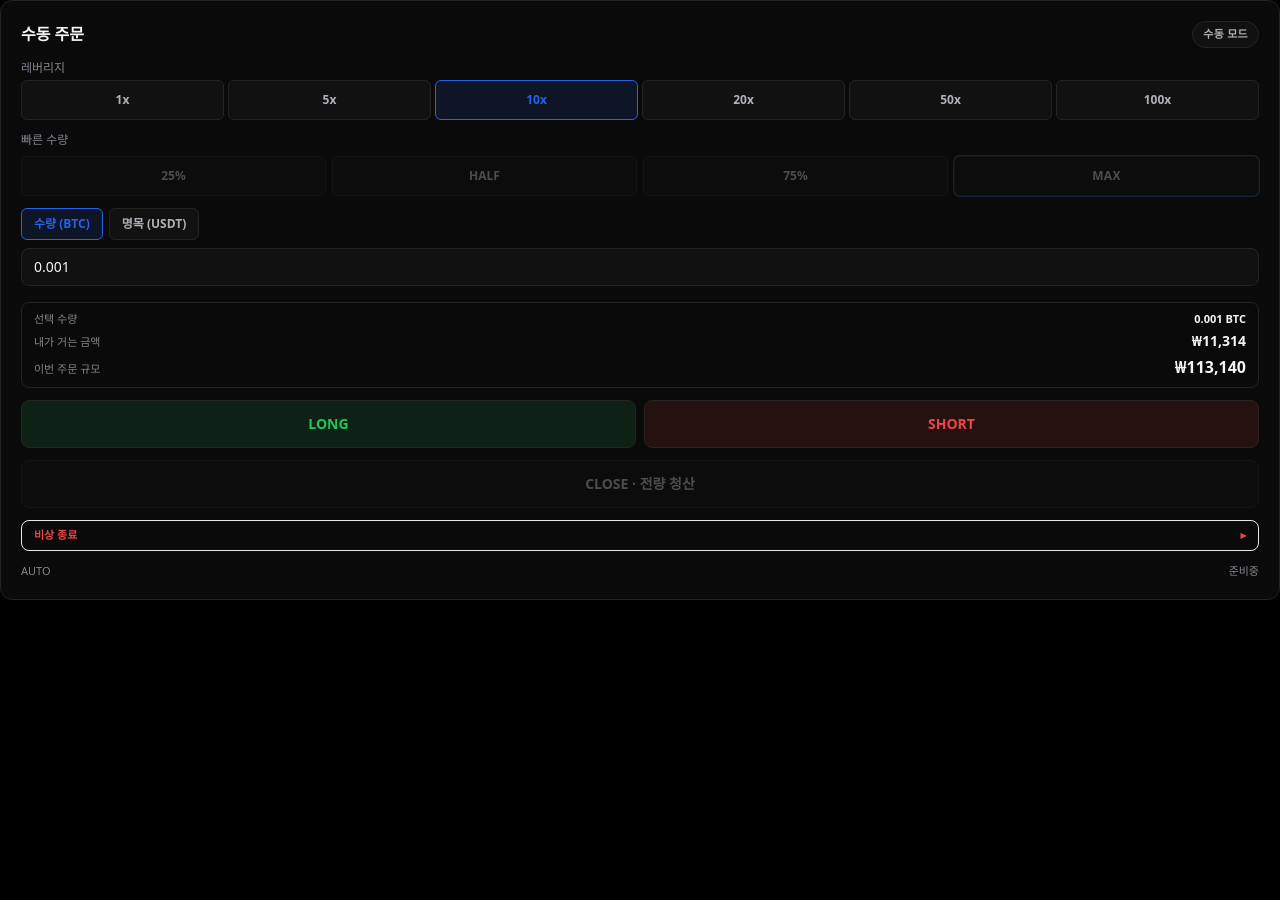
compact order panel › folds EMERGENCY to one line while flat and opens it on tap
This screenshot has width=1280, height=900.
What coordinates should you click on to do the following:
click the button with test id "emergency-toggle"
I would click on:
 (56, 534)
Its box is left=21, top=520, right=1259, bottom=550.
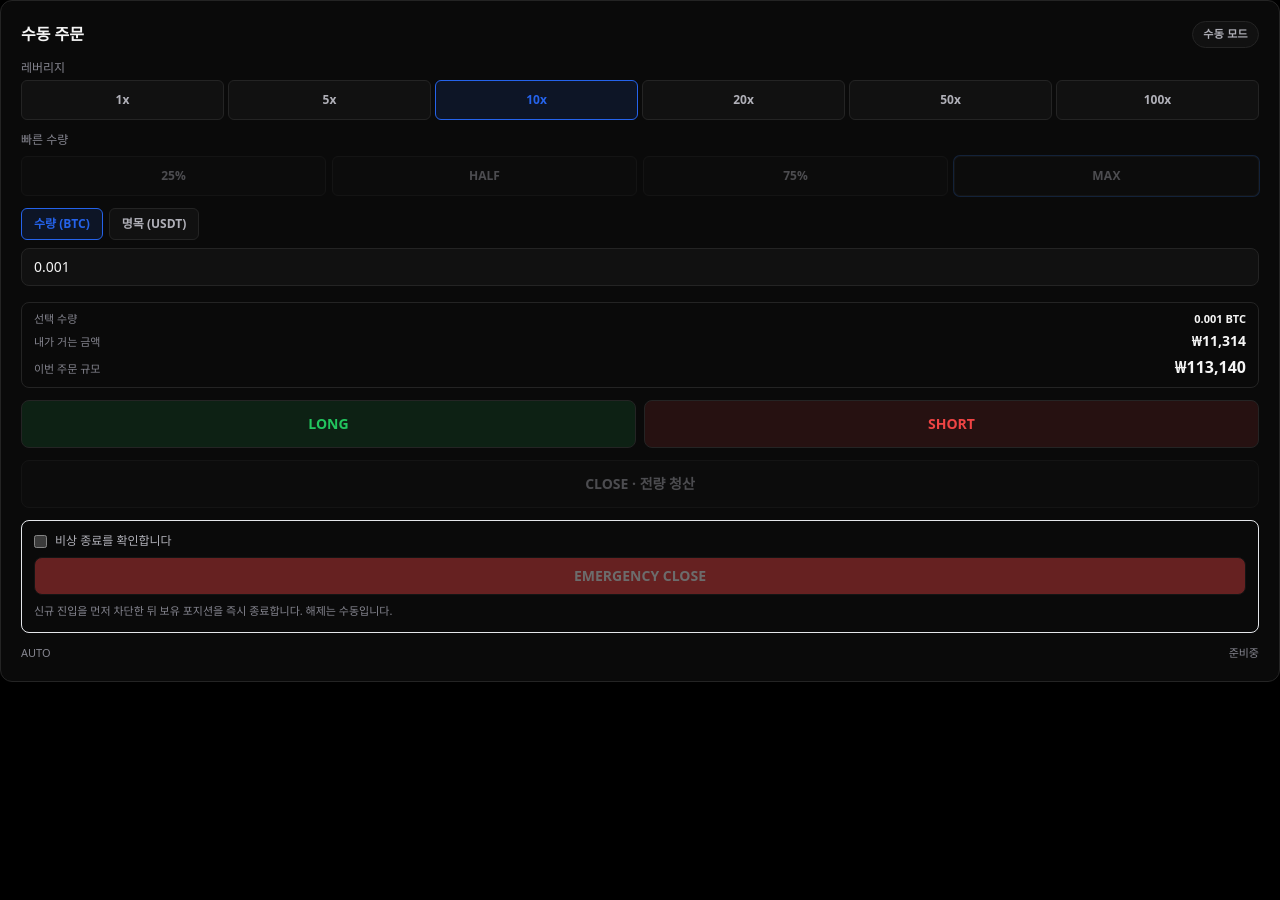
Check: the button with test id "emergency-button" is shown, box left=34, top=557, right=1246, bottom=595
